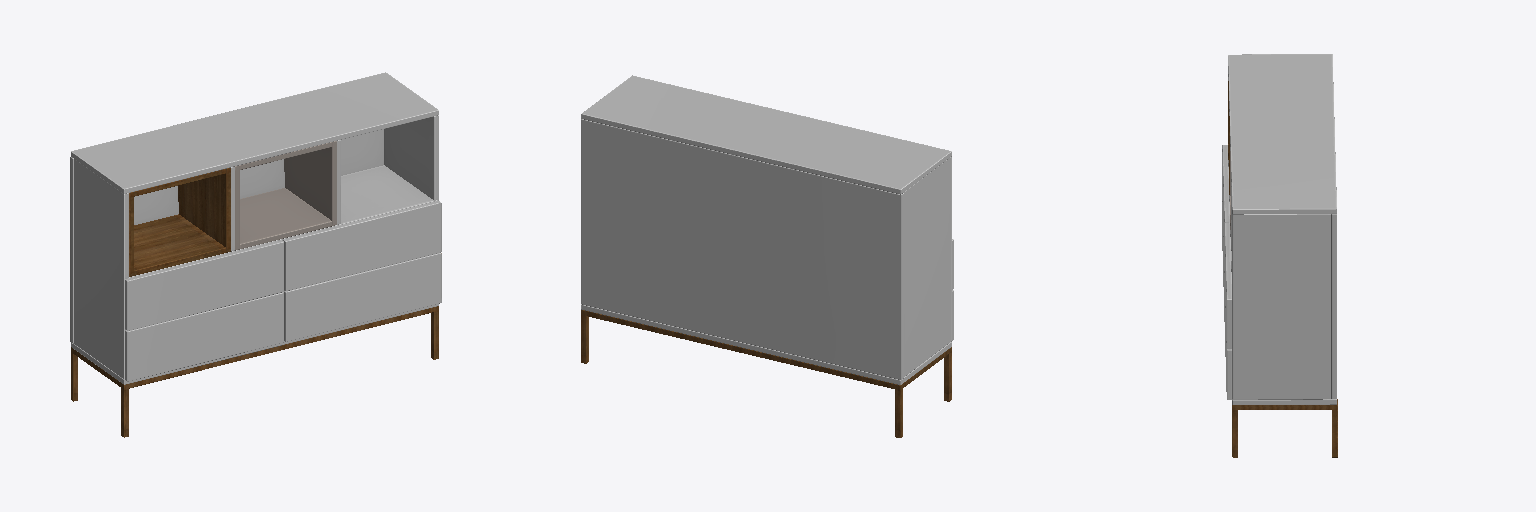
3 views of the same model, side by side, from view 1: azimuth 30°, elevation 25°; view 2: azimuth 150°, elevation 25°; view 3: azimuth 270°, elevation 25° (orthographic).
Visible parts, largest first — view 1: solid_001, solid_003, solid_002; view 2: solid_001, solid_003; view 3: solid_001, solid_003.
Boxes of the visible parts, x1,y1,x2,y2 form: solid_001: [70, 72, 441, 384]; solid_003: [71, 168, 438, 437]; solid_002: [235, 141, 336, 250]; solid_001: [581, 75, 953, 384]; solid_003: [581, 310, 951, 437]; solid_001: [1222, 54, 1336, 404]; solid_003: [1228, 81, 1337, 457].
Size of the model in its own units: 1.61 by 1.2 by 0.5026.
1 materials, 1 textured.